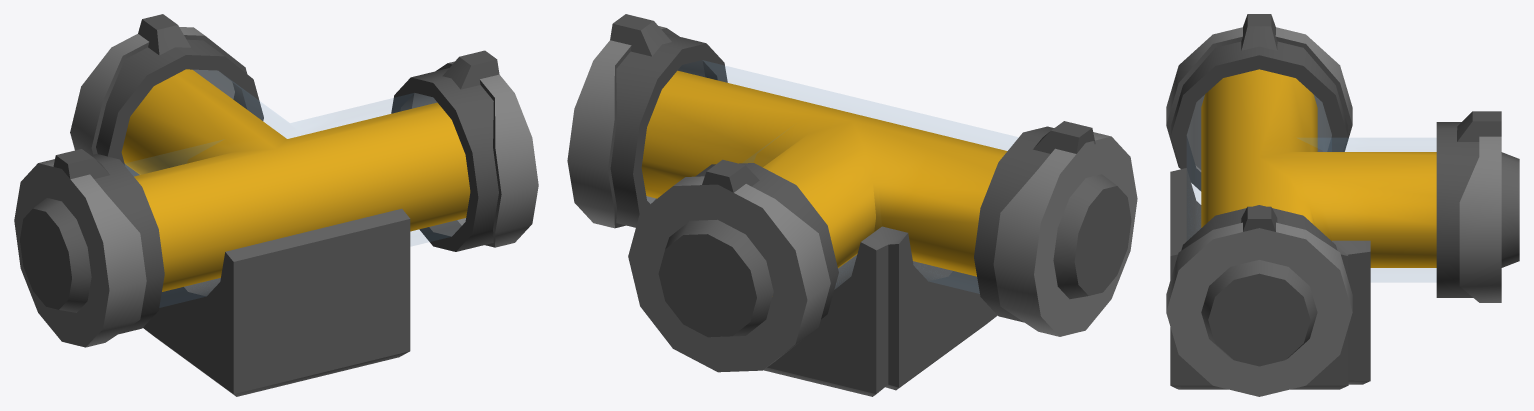
Rendered from Liquid_AnyColor_Pipe_3_Way.fbx.
3 views of the same model, side by side, from view 1: azimuth 30°, elevation 25°; view 2: azimuth 150°, elevation 25°; view 3: azimuth 270°, elevation 25° (orthographic). The views are drawn at different scales.
Parts seen in each view (by area): view 1: Liquid_AnyColor_Pipe_3_Way; view 2: Liquid_AnyColor_Pipe_3_Way; view 3: Liquid_AnyColor_Pipe_3_Way.
Part boxes in pixels (x1=…): Liquid_AnyColor_Pipe_3_Way: x1=14, y1=14, x2=538, y2=396; Liquid_AnyColor_Pipe_3_Way: x1=567, y1=14, x2=1137, y2=396; Liquid_AnyColor_Pipe_3_Way: x1=1166, y1=14, x2=1519, y2=396.
Size of the model in its own units: 215 by 107 by 146.
